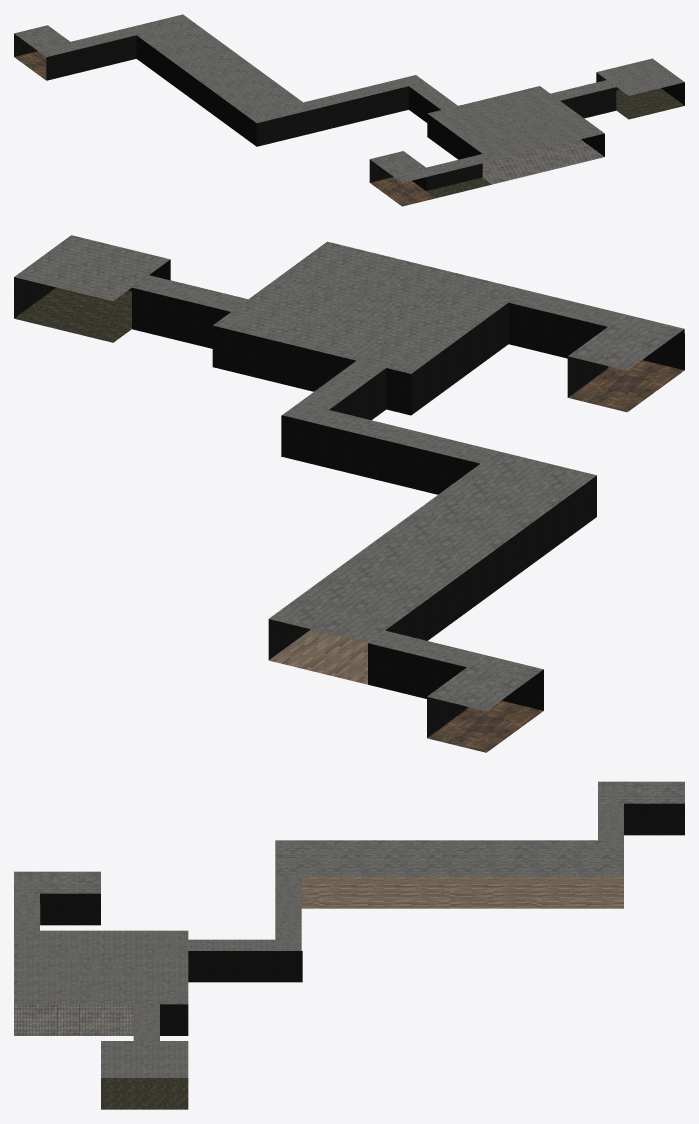
3 renders of one model, top to bottom at view 1: azimuth 30°, elevation 25°; view 2: azimuth 150°, elevation 25°; view 3: azimuth 270°, elevation 25°, orthographic. The views are drawn at different scales.
Parts seen in each view (by area): view 1: lrceiling_Plane.040, widehallceiling02_Plane.056, widehallceiling01_Plane.055, lrfloor_Plane, mrceiling_Plane.038, hall5wall02_Plane.060, widehallwall01_Plane.028, hall2wall03_Plane.012, mrfloor_Plane.001, endceiling_Plane.062, deadendceiling_Plane.042, hallwall02_Plane.013 (+19 smaller); view 2: lrceiling_Plane.040, widehallceiling02_Plane.056, widehallceiling01_Plane.055, mrceiling_Plane.038, hall2wall07_Plane.022, lrwall01_Plane.014, mrfloor_Plane.001, hallwall01_Plane.010, deadendceiling_Plane.042, endceiling_Plane.062, hall3wall02_Plane.046, hall2wall06_Plane.025 (+24 smaller); view 3: lrceiling_Plane.040, widehallceiling01_Plane.055, widehallceiling02_Plane.056, widehallfloor02_Plane.030, widehallfloor01_Plane.027, lrfloor_Plane, mrceiling_Plane.038, mrfloor_Plane.001, hall2wall02_Plane.007, endwawll01_Plane.066, deadendwall01_Plane.048, endceiling_Plane.062 (+9 smaller).
Boxes of the visible parts, <box> form: lrceiling_Plane.040: <box>427,86,604,160</box>; widehallceiling02_Plane.056: <box>127,14,247,75</box>; widehallceiling01_Plane.055: <box>192,62,312,122</box>; lrfloor_Plane: <box>482,139,604,184</box>; mrceiling_Plane.038: <box>596,58,684,95</box>; hall5wall02_Plane.060: <box>80,35,136,72</box>; widehallwall01_Plane.028: <box>256,109,312,146</box>; hall2wall03_Plane.012: <box>352,86,408,123</box>; mrfloor_Plane.001: <box>616,88,684,119</box>; endceiling_Plane.062: <box>14,25,79,56</box>; deadendceiling_Plane.042: <box>370,151,435,182</box>; hallwall02_Plane.013: <box>560,87,616,118</box>; lrceiling_Plane.040: <box>213,241,525,373</box>; widehallceiling02_Plane.056: <box>269,535,481,642</box>; widehallceiling01_Plane.055: <box>383,451,596,559</box>; mrceiling_Plane.038: <box>14,235,169,301</box>; hall2wall07_Plane.022: <box>282,415,381,480</box>; lrwall01_Plane.014: <box>212,325,311,391</box>; mrfloor_Plane.001: <box>14,287,131,342</box>; hallwall01_Plane.010: <box>132,287,230,348</box>; deadendceiling_Plane.042: <box>568,314,684,370</box>; endceiling_Plane.062: <box>427,655,543,711</box>; hall3wall02_Plane.046: <box>508,303,607,358</box>; hall2wall06_Plane.025: <box>381,439,479,494</box>; lrceiling_Plane.040: <box>14,930,188,1004</box>; widehallceiling01_Plane.055: <box>275,840,449,877</box>; widehallceiling02_Plane.056: <box>449,840,623,877</box>; widehallfloor02_Plane.030: <box>449,877,623,908</box>; widehallfloor01_Plane.027: <box>301,877,449,908</box>; lrfloor_Plane: <box>14,1004,133,1035</box>; mrceiling_Plane.038: <box>101,1041,188,1077</box>; mrfloor_Plane.001: <box>101,1078,188,1109</box>; hall2wall02_Plane.007: <box>188,951,275,982</box>; endwawll01_Plane.066: <box>624,803,684,835</box>; deadendwall01_Plane.048: <box>40,893,100,925</box>; endceiling_Plane.062: <box>598,781,684,803</box>.
Size of the model in its own units: 805 by 40.02 by 770.
Materials: 6 (6 with a texture image).
